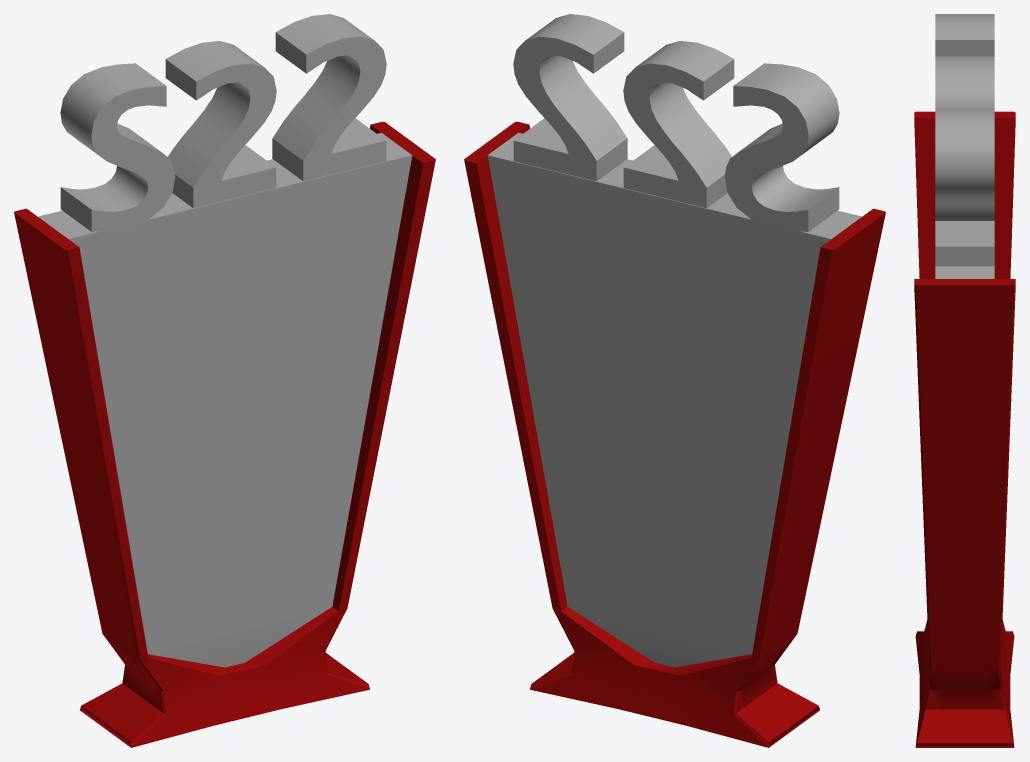
File: credit_s22.fbx
3 renders of one model, left to right at view 1: azimuth 30°, elevation 25°; view 2: azimuth 150°, elevation 25°; view 3: azimuth 270°, elevation 25°, orthographic. The views are drawn at different scales.
Visible parts, largest first — view 1: plaque, titleText; view 2: plaque, titleText; view 3: plaque, titleText.
Part boxes in pixels (<box>): plaque: <box>14,121,435,747</box>; titleText: <box>60,14,386,231</box>; plaque: <box>464,121,885,747</box>; titleText: <box>513,14,839,231</box>; plaque: <box>914,111,1015,747</box>; titleText: <box>935,14,994,266</box>.
Size of the model in its own units: 20.82 by 34.74 by 5.15.
